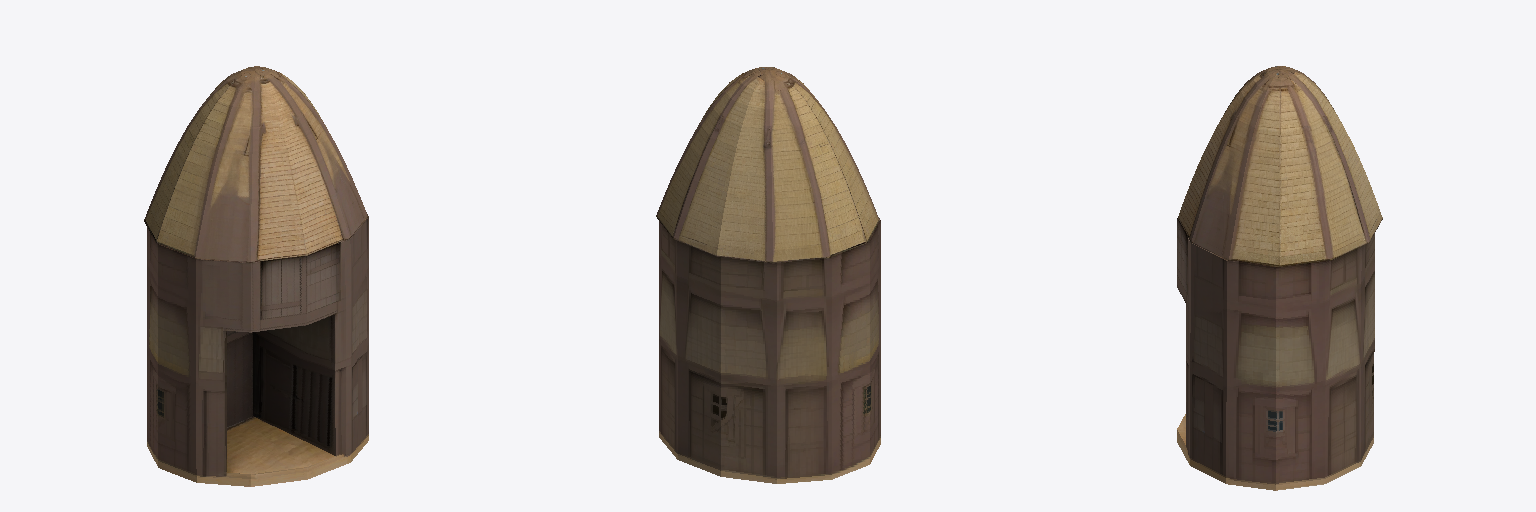
3 views of the same model, side by side, from view 1: azimuth 30°, elevation 25°; view 2: azimuth 150°, elevation 25°; view 3: azimuth 270°, elevation 25° (orthographic).
Parts seen in each view (by area): view 1: model; view 2: model; view 3: model.
Boxes of the visible parts, box(x1,y1,x2,y2) form: model: box(144, 66, 368, 486); model: box(656, 67, 880, 483); model: box(1177, 66, 1382, 490).
Bounding box in the file's own units: 1.12 × 2 × 1.
Materials: 1 (1 with a texture image).